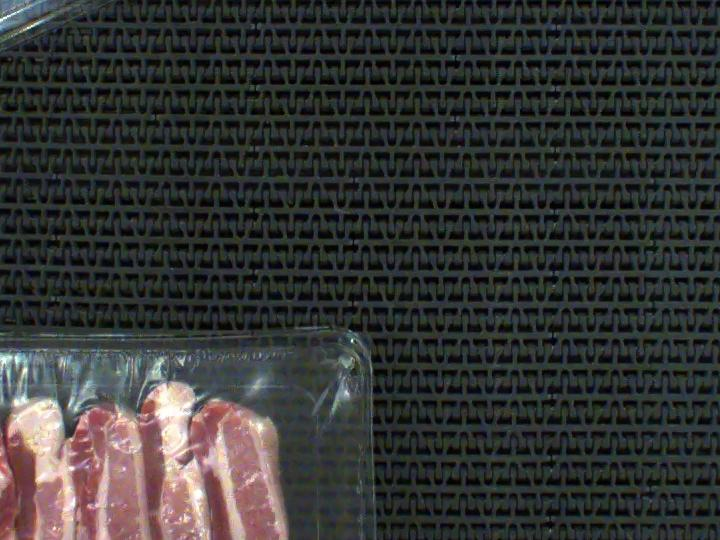unsealed: (0, 365, 329, 540)
